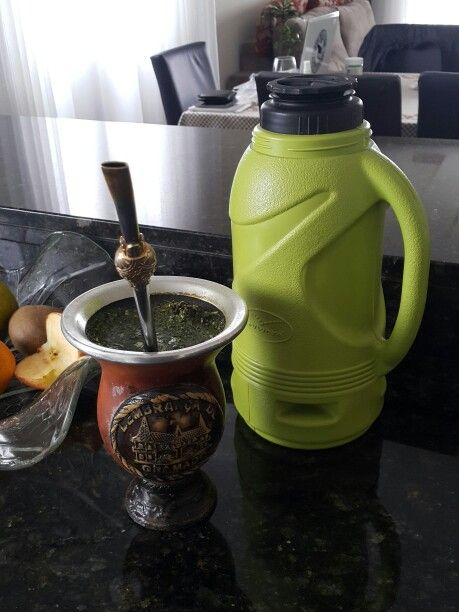mate: (62, 273, 249, 529)
